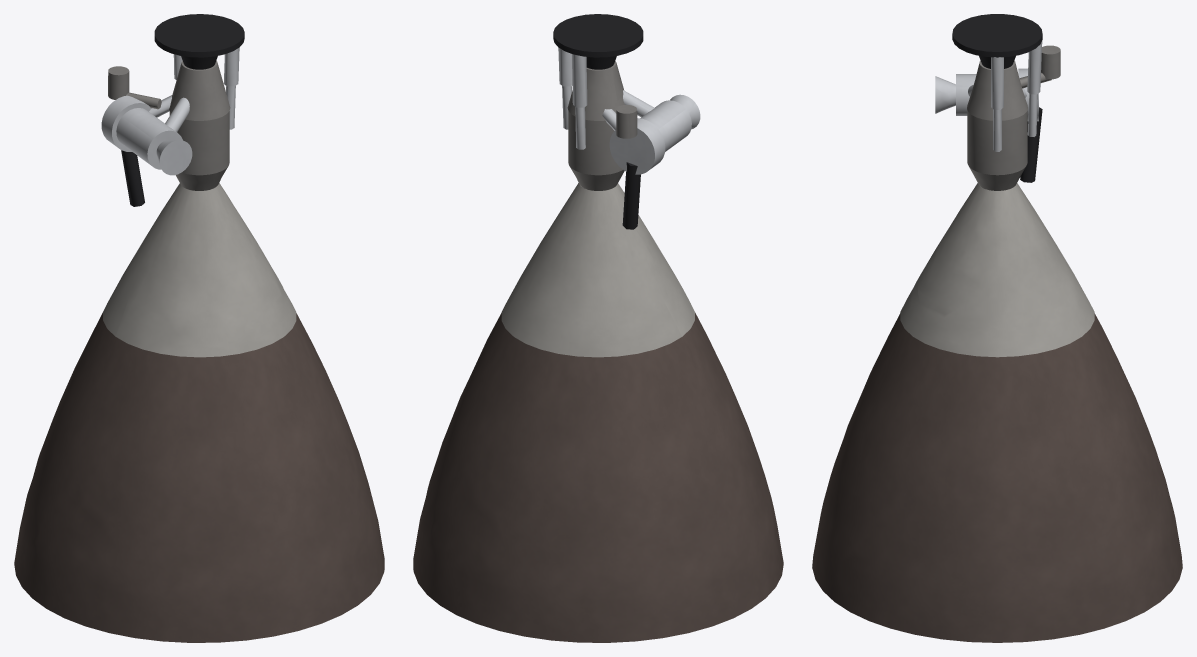
Rendered from prop09_merlin_vac.glb.
3 renders of one model, left to right at view 1: azimuth 30°, elevation 25°; view 2: azimuth 150°, elevation 25°; view 3: azimuth 270°, elevation 25°, orthographic.
Visible parts, largest first — view 1: nozzle_extension, nozzle, turbopump, gimbal_mount, chamber, injector_dome, gimbal_actuators, gas_generator, gg_exhaust, propellant_ducts; view 2: nozzle_extension, nozzle, turbopump, gimbal_mount, chamber, gimbal_actuators, injector_dome, gg_exhaust, gas_generator, propellant_ducts; view 3: nozzle_extension, nozzle, chamber, gimbal_mount, gimbal_actuators, injector_dome, turbopump, gas_generator, gg_exhaust.
Boxes of the visible parts, x1,y1,x2,y2 form: nozzle_extension: (14, 312, 384, 642); nozzle: (103, 183, 296, 357); turbopump: (101, 95, 192, 175); gimbal_mount: (154, 14, 244, 69); chamber: (169, 111, 229, 190); injector_dome: (169, 60, 230, 120); gimbal_actuators: (173, 47, 239, 129); gas_generator: (108, 66, 161, 109); gg_exhaust: (121, 150, 144, 206); propellant_ducts: (149, 95, 189, 131); nozzle_extension: (413, 312, 783, 642); nozzle: (501, 183, 694, 357); turbopump: (609, 94, 700, 174); gimbal_mount: (553, 14, 643, 69); chamber: (568, 111, 624, 190); gimbal_actuators: (558, 47, 587, 149); injector_dome: (567, 61, 624, 120); gg_exhaust: (622, 162, 640, 229); gas_generator: (616, 105, 637, 138); propellant_ducts: (602, 90, 654, 130); nozzle_extension: (812, 313, 1182, 642); nozzle: (900, 183, 1094, 357); chamber: (967, 110, 1027, 190); gimbal_mount: (952, 14, 1042, 68); gimbal_actuators: (991, 41, 1042, 151); injector_dome: (967, 61, 1027, 120); turbopump: (935, 68, 1038, 121); gas_generator: (1019, 45, 1060, 88); gg_exhaust: (1020, 107, 1042, 182).
Bounding box in the file's own units: 2.46 × 3.9 × 2.46.
5 materials, 4 textured.
